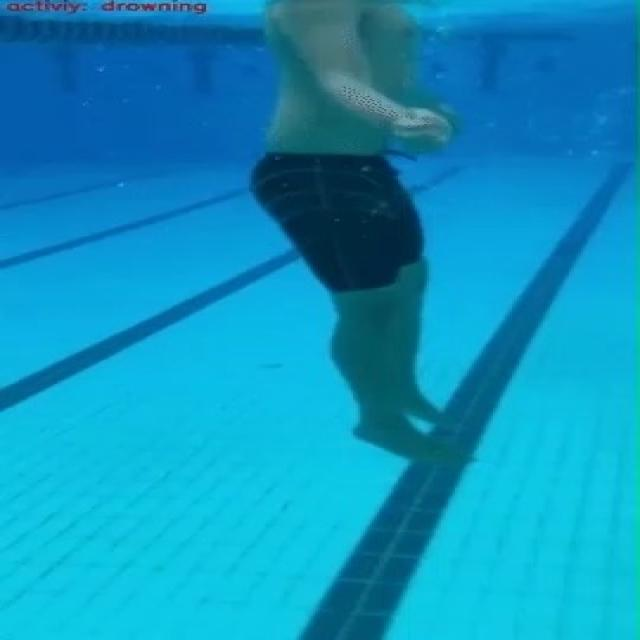Drowning: (242, 2, 491, 469)
